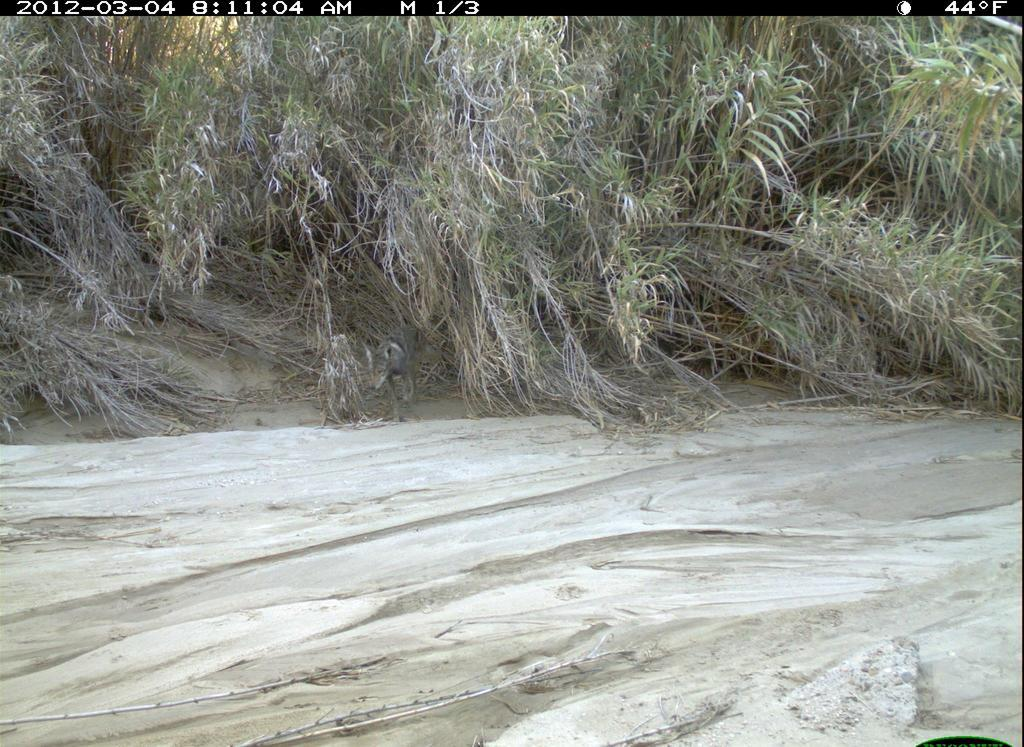coyote: (359, 310, 436, 417)
